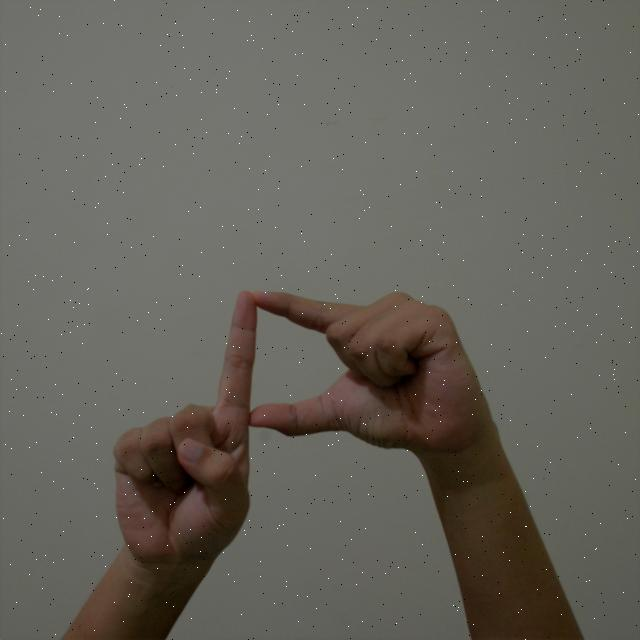D: (108, 272, 506, 577)
